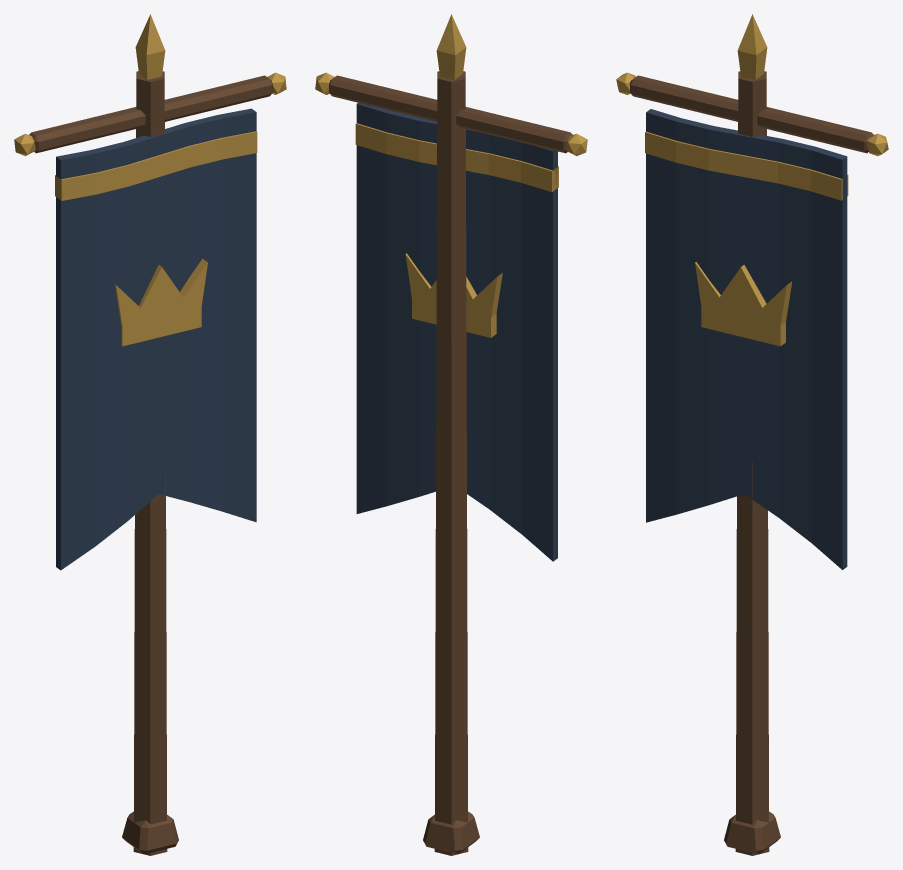
Rendered from Banner.fbx.
3 renders of one model, left to right at view 1: azimuth 30°, elevation 25°; view 2: azimuth 150°, elevation 25°; view 3: azimuth 330°, elevation 25°, orthographic.
Visible parts, largest first — view 1: Cloth, Pole, Gold; view 2: Cloth, Pole, Gold; view 3: Cloth, Pole, Gold.
Part boxes in pixels (x1,y1,x2,y2): Cloth: [56, 108, 256, 570]; Pole: [29, 71, 273, 855]; Gold: [14, 14, 286, 346]; Cloth: [356, 102, 557, 561]; Pole: [328, 71, 572, 855]; Gold: [315, 14, 587, 337]; Cloth: [646, 109, 847, 569]; Pole: [629, 71, 873, 855]; Gold: [616, 14, 888, 346].
Bounding box in the file's own units: 3.23 × 9.55 × 0.4795.
